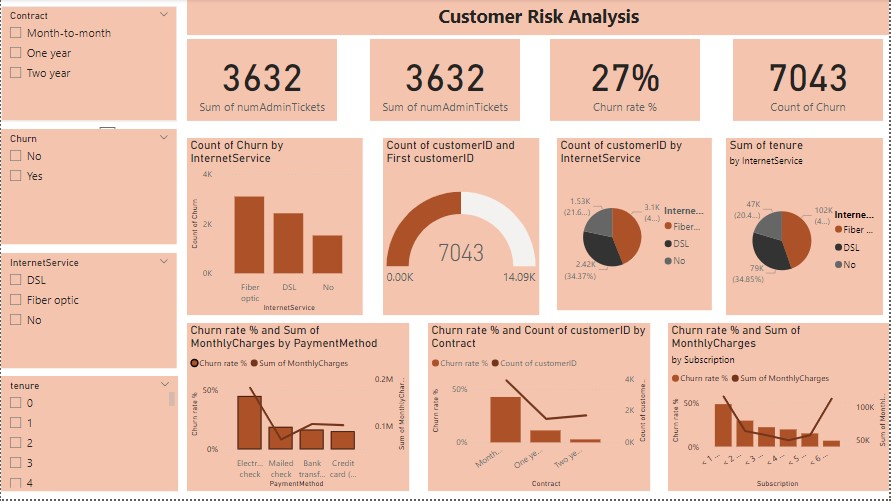

The dashboard page shown, as its layout file describes it:
{"tool":"powerbi","page":{"name":"Customer Risk Analysis","canvas":[1280,720],"ordinal":2},"visuals":[{"type":"textbox","box":[267.8,0,1012.3,51.8],"z":0},{"type":"slicer","fields":{"Values":["01 Churn-Dataset.Contract"]},"box":[0,10.1,253.4,165.6],"z":4},{"type":"slicer","fields":{"Values":["01 Churn-Dataset.tenure"]},"box":[0,542.9,254.9,165.6],"z":6},{"type":"slicer","fields":{"Values":["01 Churn-Dataset.InternetService"]},"box":[0,365.8,253.4,165.6],"z":7},{"type":"slicer","fields":{"Values":["01 Churn-Dataset.Churn"]},"box":[0,187.2,253.4,165.6],"z":8},{"type":"card","fields":{"Values":["CountNonNull(01 Churn-Dataset.Churn)"]},"box":[1054.1,57.6,216,118.1],"z":9},{"type":"card","fields":{"Values":["01 Churn-Dataset.Churn rate %"]},"box":[790.6,57.6,216,118.1],"z":10},{"type":"gauge","fields":{"Y":["CountNonNull(01 Churn-Dataset.customerID)"]},"box":[550.1,200.2,224.6,254.9],"z":11},{"type":"card","fields":{"Values":["Sum(01 Churn-Dataset.numAdminTickets)"]},"box":[267.8,57.6,216,118.1],"z":12},{"type":"card","fields":{"Values":["Sum(01 Churn-Dataset.numAdminTickets)"]},"box":[531.4,57.6,216,118.1],"z":13},{"type":"columnChart","fields":{"Category":["01 Churn-Dataset.InternetService"],"Y":["CountNonNull(01 Churn-Dataset.Churn)"]},"box":[267.8,200.2,253.4,254.9],"z":14},{"type":"pieChart","fields":{"Category":["01 Churn-Dataset.InternetService"],"Y":["CountNonNull(01 Churn-Dataset.customerID)"]},"box":[800.6,200.2,223.2,247.7],"z":15},{"type":"pieChart","fields":{"Y":["Sum(01 Churn-Dataset.tenure)"],"Category":["01 Churn-Dataset.InternetService"]},"box":[1044,200.2,226.1,254.9],"z":16},{"type":"lineStackedColumnComboChart","fields":{"Category":["01 Churn-Dataset.Contract"],"Y":["01 Churn-Dataset.Churn rate %"],"Y2":["CountNonNull(01 Churn-Dataset.customerID)"]},"box":[614.9,466.6,319.7,241.9],"z":17},{"type":"lineStackedColumnComboChart","fields":{"Category":["01 Churn-Dataset.Subscription"],"Y":["01 Churn-Dataset.Churn rate %"],"Y2":["Sum(01 Churn-Dataset.MonthlyCharges)"]},"box":[960.5,466.6,319.7,241.9],"z":18},{"type":"lineStackedColumnComboChart","fields":{"Category":["01 Churn-Dataset.PaymentMethod"],"Y":["01 Churn-Dataset.Churn rate %"],"Y2":["Sum(01 Churn-Dataset.MonthlyCharges)"]},"box":[267.8,466.6,319.7,241.9],"z":19}]}

Visuals, with their boxes in screenshot pixels (x1, y1, x2, y2), scaled from the page's 1280x720 canvas onto the 891x501 screenshot:
textbox: bbox=(186, 0, 890, 36)
slicer - 01 Churn-Dataset.Contract: bbox=(0, 7, 176, 122)
slicer - 01 Churn-Dataset.tenure: bbox=(0, 378, 177, 493)
slicer - 01 Churn-Dataset.InternetService: bbox=(0, 255, 176, 370)
slicer - 01 Churn-Dataset.Churn: bbox=(0, 130, 176, 245)
card - CountNonNull(01 Churn-Dataset.Churn): bbox=(734, 40, 884, 122)
card - 01 Churn-Dataset.Churn rate %: bbox=(550, 40, 701, 122)
gauge - CountNonNull(01 Churn-Dataset.customerID): bbox=(383, 139, 539, 317)
card - Sum(01 Churn-Dataset.numAdminTickets): bbox=(186, 40, 337, 122)
card - Sum(01 Churn-Dataset.numAdminTickets): bbox=(370, 40, 520, 122)
columnChart - 01 Churn-Dataset.InternetService x CountNonNull(01 Churn-Dataset.Churn): bbox=(186, 139, 363, 317)
pieChart - 01 Churn-Dataset.InternetService x CountNonNull(01 Churn-Dataset.customerID): bbox=(557, 139, 713, 312)
pieChart - Sum(01 Churn-Dataset.tenure) x 01 Churn-Dataset.InternetService: bbox=(727, 139, 884, 317)
lineStackedColumnComboChart - 01 Churn-Dataset.Contract x 01 Churn-Dataset.Churn rate %: bbox=(428, 325, 651, 493)
lineStackedColumnComboChart - 01 Churn-Dataset.Subscription x 01 Churn-Dataset.Churn rate %: bbox=(669, 325, 890, 493)
lineStackedColumnComboChart - 01 Churn-Dataset.PaymentMethod x 01 Churn-Dataset.Churn rate %: bbox=(186, 325, 409, 493)
